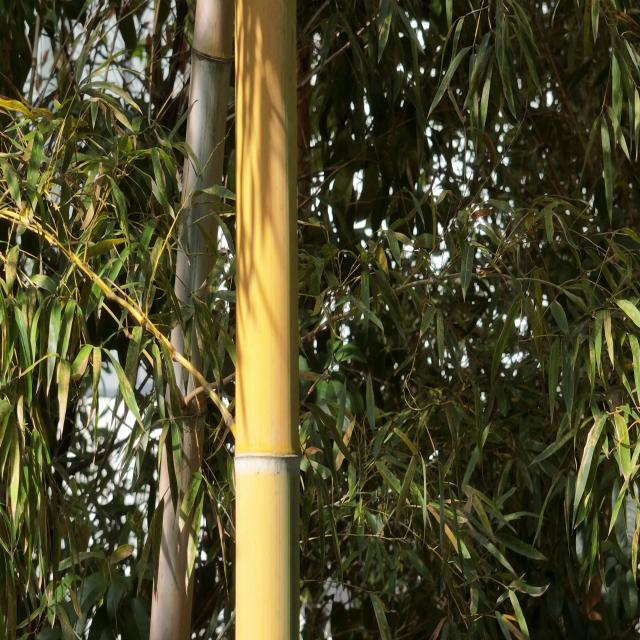Bamboo-shoots: (234, 0, 300, 640)
